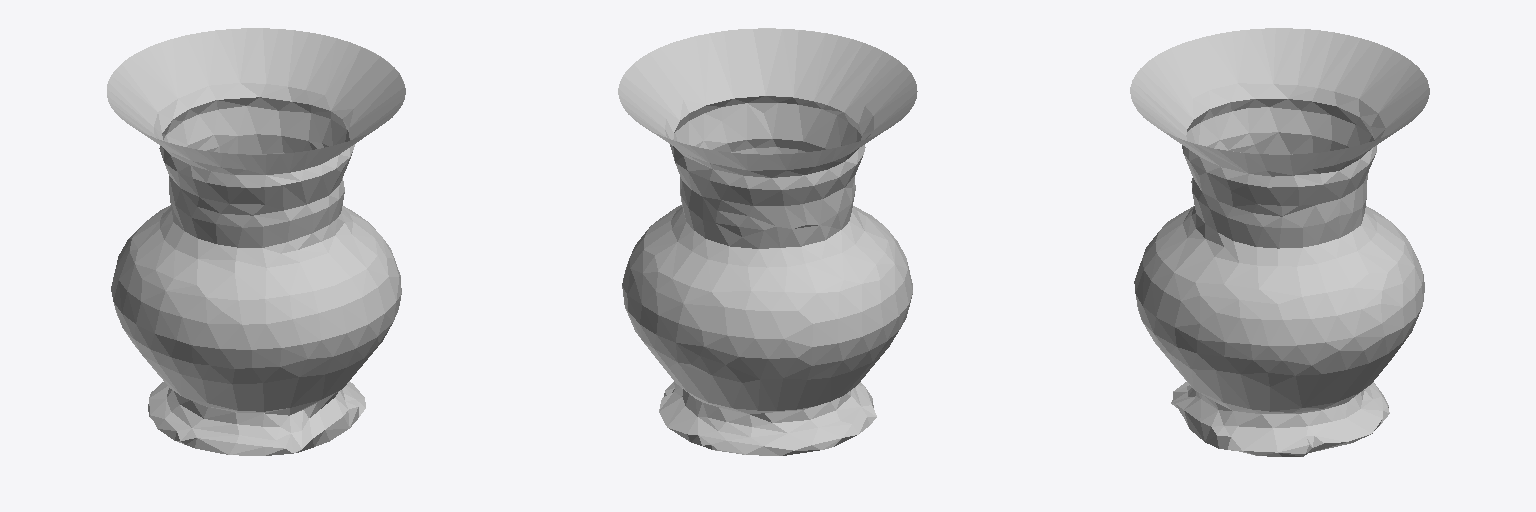
The picture shows the model from 3 angles: view 1: azimuth 30°, elevation 25°; view 2: azimuth 150°, elevation 25°; view 3: azimuth 270°, elevation 25°; orthographic projection.
Visible parts, largest first — view 1: LoadedObject; view 2: LoadedObject; view 3: LoadedObject.
Boxes of the visible parts, box(x1,y1,x2,y2) form: LoadedObject: box(107, 28, 405, 455); LoadedObject: box(618, 28, 917, 455); LoadedObject: box(1130, 28, 1429, 456).
Bounding box in the file's own units: 0.2575 × 0.313 × 0.2578.